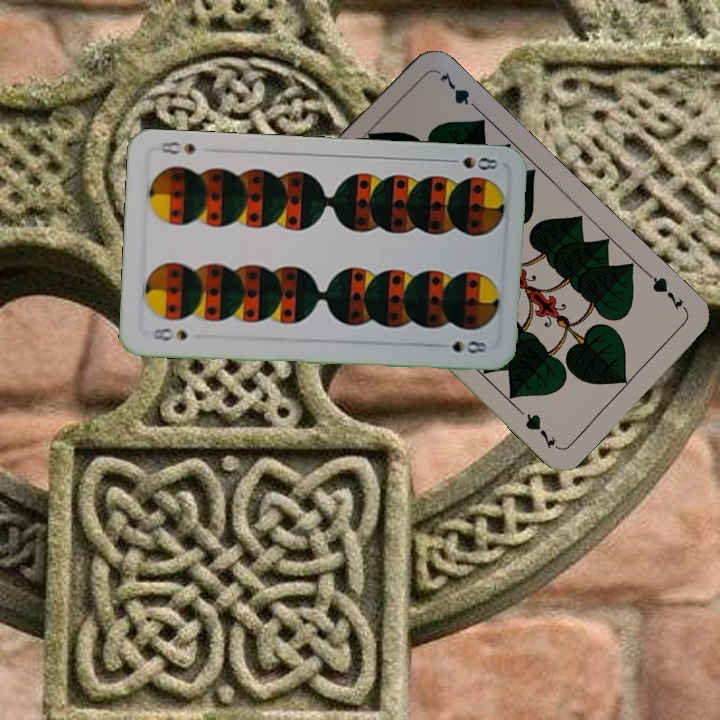G7: (643, 269, 690, 315)
S8: (442, 153, 501, 173), (143, 323, 190, 344)
